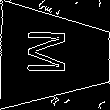M_E: (31, 32, 79, 80)
